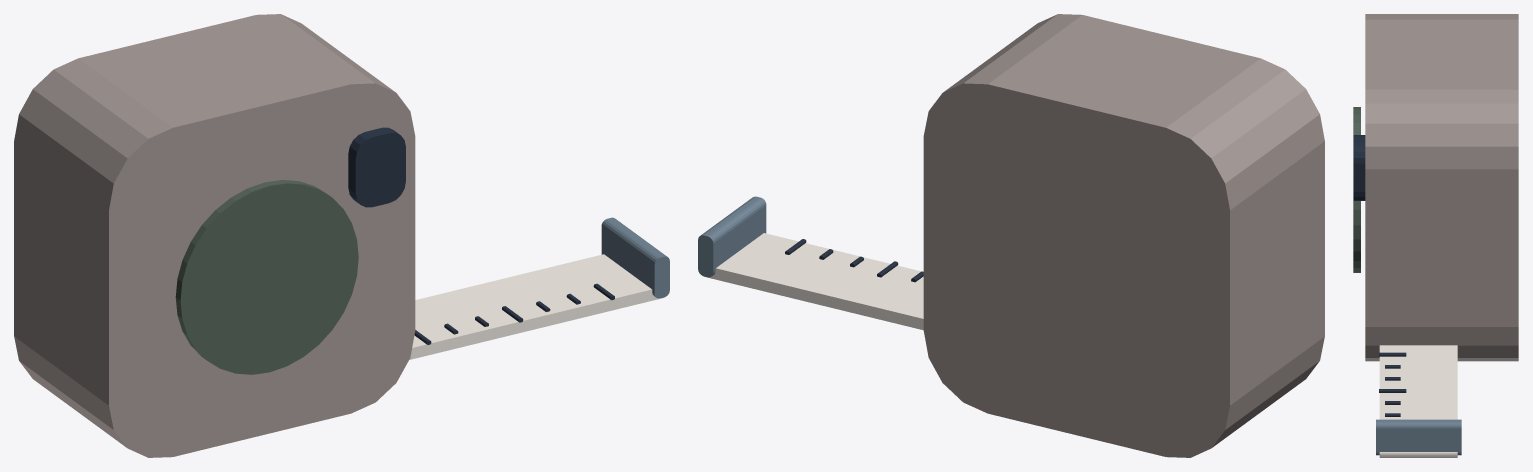
The model's file is taperule.glb.
The picture shows the model from 3 angles, left to right: view 1: azimuth 30°, elevation 25°; view 2: azimuth 150°, elevation 25°; view 3: azimuth 270°, elevation 25°; orthographic projection. The views are drawn at different scales.
Parts seen in each view (by area): view 1: housing, case inset, blade, lock button, end hook; view 2: housing, blade, end hook; view 3: housing, blade, end hook, case inset, lock button.
Boxes of the visible parts, left/top/right/bottom form: housing: left=14, top=14, right=415, bottom=457; case inset: left=175, top=180, right=358, bottom=374; blade: left=409, top=254, right=664, bottom=359; lock button: left=348, top=127, right=405, bottom=207; end hook: left=601, top=217, right=669, bottom=298; housing: left=923, top=14, right=1324, bottom=457; blade: left=703, top=233, right=923, bottom=330; end hook: left=698, top=196, right=766, bottom=277; housing: left=1365, top=14, right=1518, bottom=361; blade: left=1379, top=345, right=1457, bottom=457; end hook: left=1376, top=419, right=1461, bottom=455; case inset: left=1353, top=107, right=1360, bottom=272; lock button: left=1353, top=135, right=1365, bottom=200.
Size of the model in its own units: 2.04 by 1.13 by 0.637.
